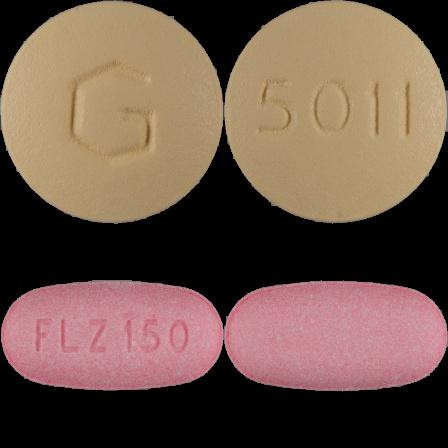59762-5011: (0, 0, 224, 224)
